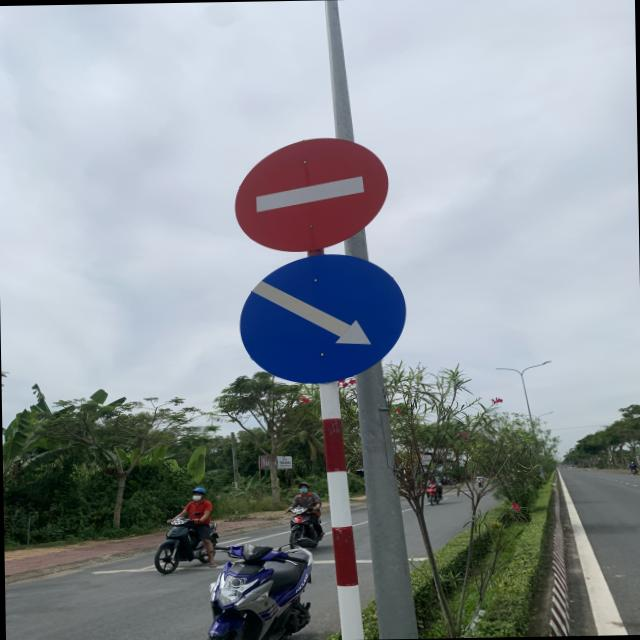Cam_Di_Nguoc_Chieu: (235, 135, 388, 253)
Chi_Huong_Di_Phai: (236, 253, 408, 388)
